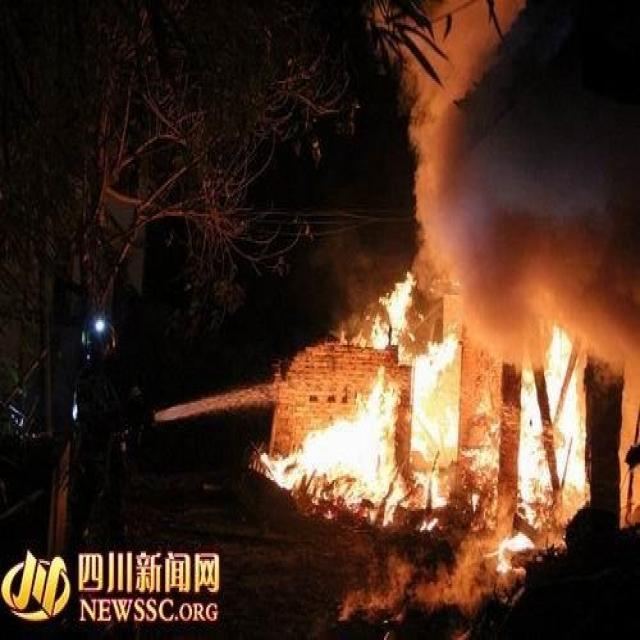Fire: (256, 270, 590, 574)
Smoke: (433, 4, 639, 373)
